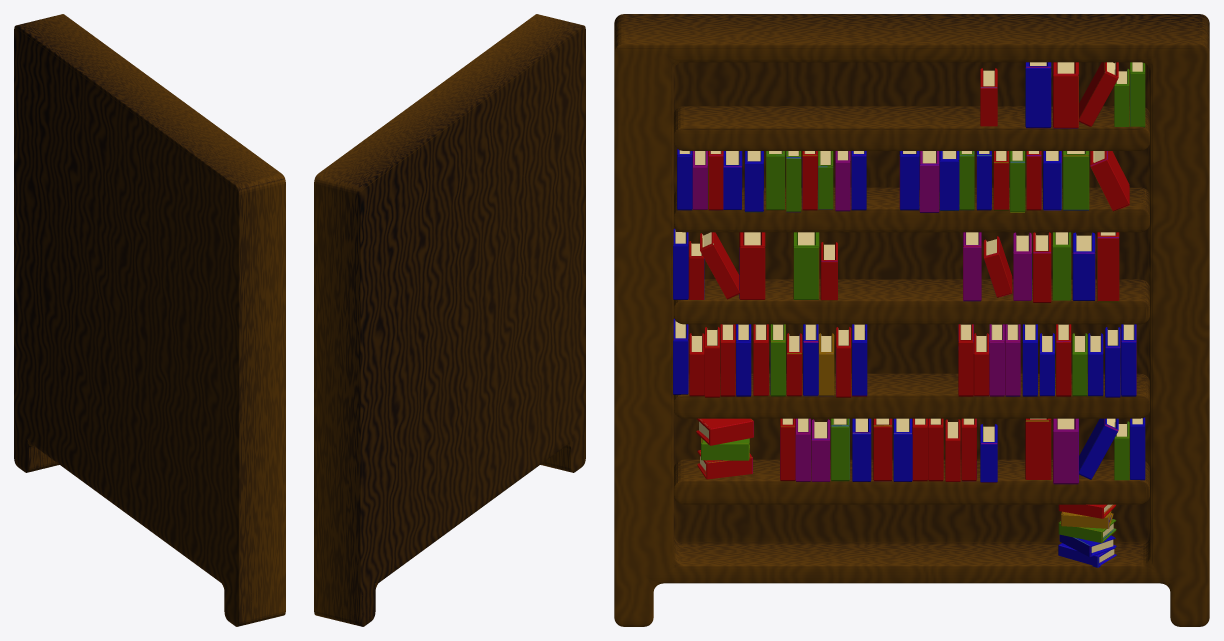
The model's file is BookShelf.fbx.
The picture shows the model from 3 angles, left to right: view 1: azimuth 30°, elevation 25°; view 2: azimuth 150°, elevation 25°; view 3: azimuth 270°, elevation 25°; orthographic projection. The views are drawn at different scales.
Visible parts, largest first — view 1: Cube.006; view 2: Cube.006; view 3: Cube.006, Cube.003, Cube.001, Cube.018, Cube.017, Cube.023, Cube.087, Cube.024, Cube.093, Cube.092, Cube.088, Cube.011 (+73 smaller).
Part boxes in pixels (x1,y1,x2,y2): Cube.006: [14, 14, 285, 626]; Cube.006: [314, 14, 585, 626]; Cube.006: [614, 14, 1209, 626]; Cube.003: [793, 232, 819, 299]; Cube.001: [739, 232, 765, 299]; Cube.018: [1025, 62, 1051, 128]; Cube.017: [1053, 62, 1078, 128]; Cube.023: [1053, 418, 1078, 484]; Cube.087: [1062, 151, 1089, 210]; Cube.024: [1025, 418, 1051, 479]; Cube.093: [1097, 232, 1119, 302]; Cube.092: [1072, 232, 1095, 300]; Cube.088: [1090, 151, 1129, 211]; Cube.011: [700, 232, 739, 299].
Size of the model in its own units: 616 by 4855 by 4492.
Materials: 3 (2 with a texture image).
